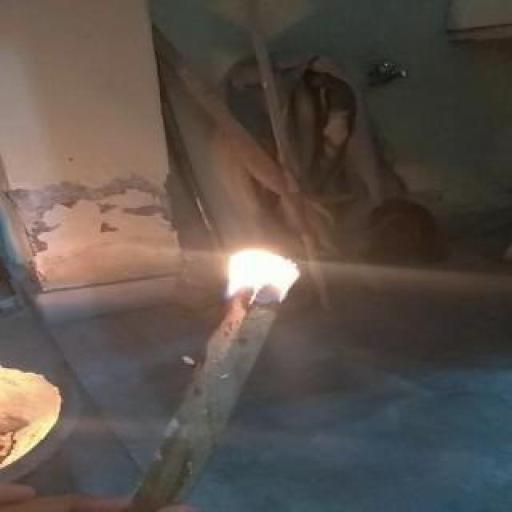smoke: (187, 222, 352, 326)
